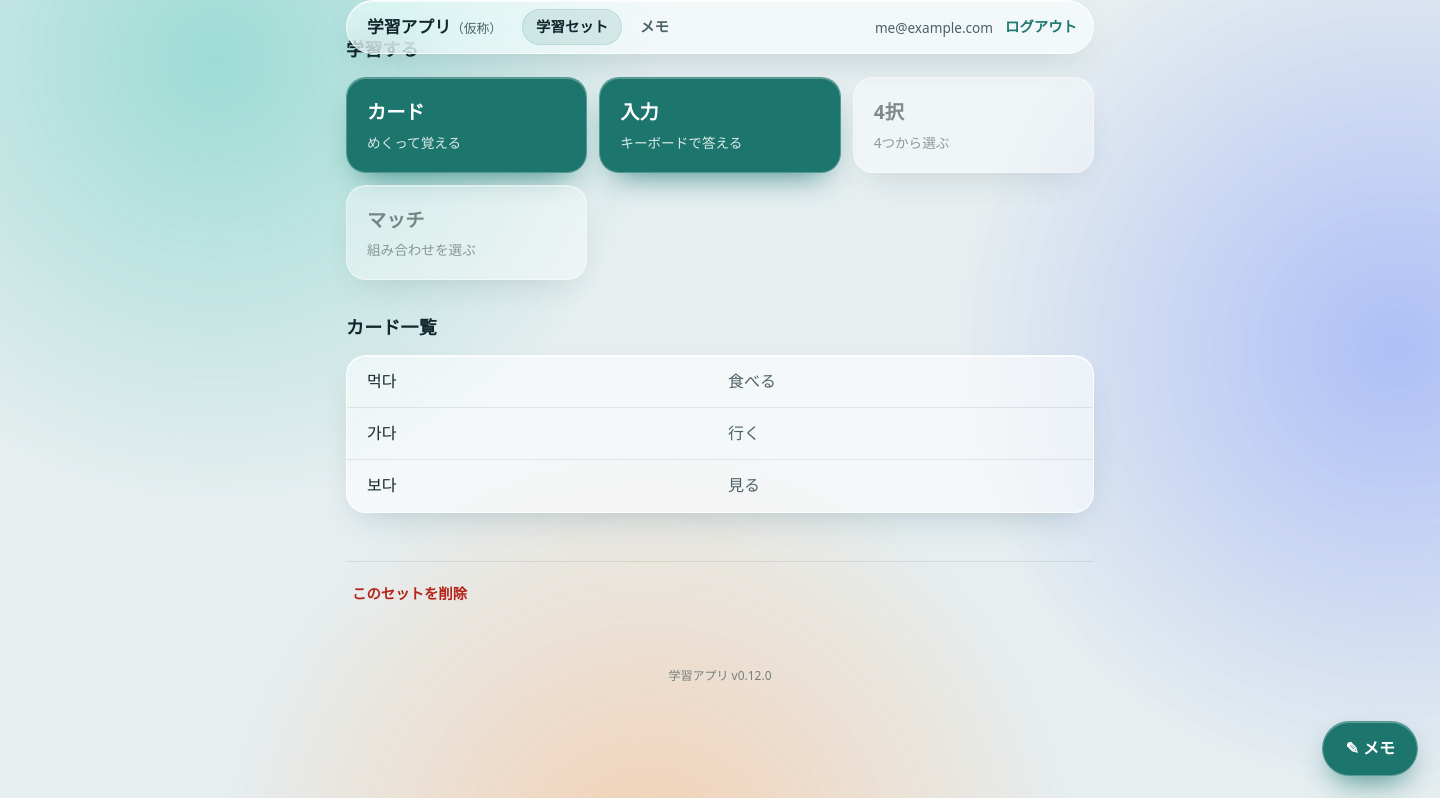
Test: 学習セットを削除する › 確認のあと削除すると一覧に戻り、セットは消えている
(page scrolled)
Step 1. Click the button "このセットを削除" → (410, 594), box [346, 578, 473, 610]
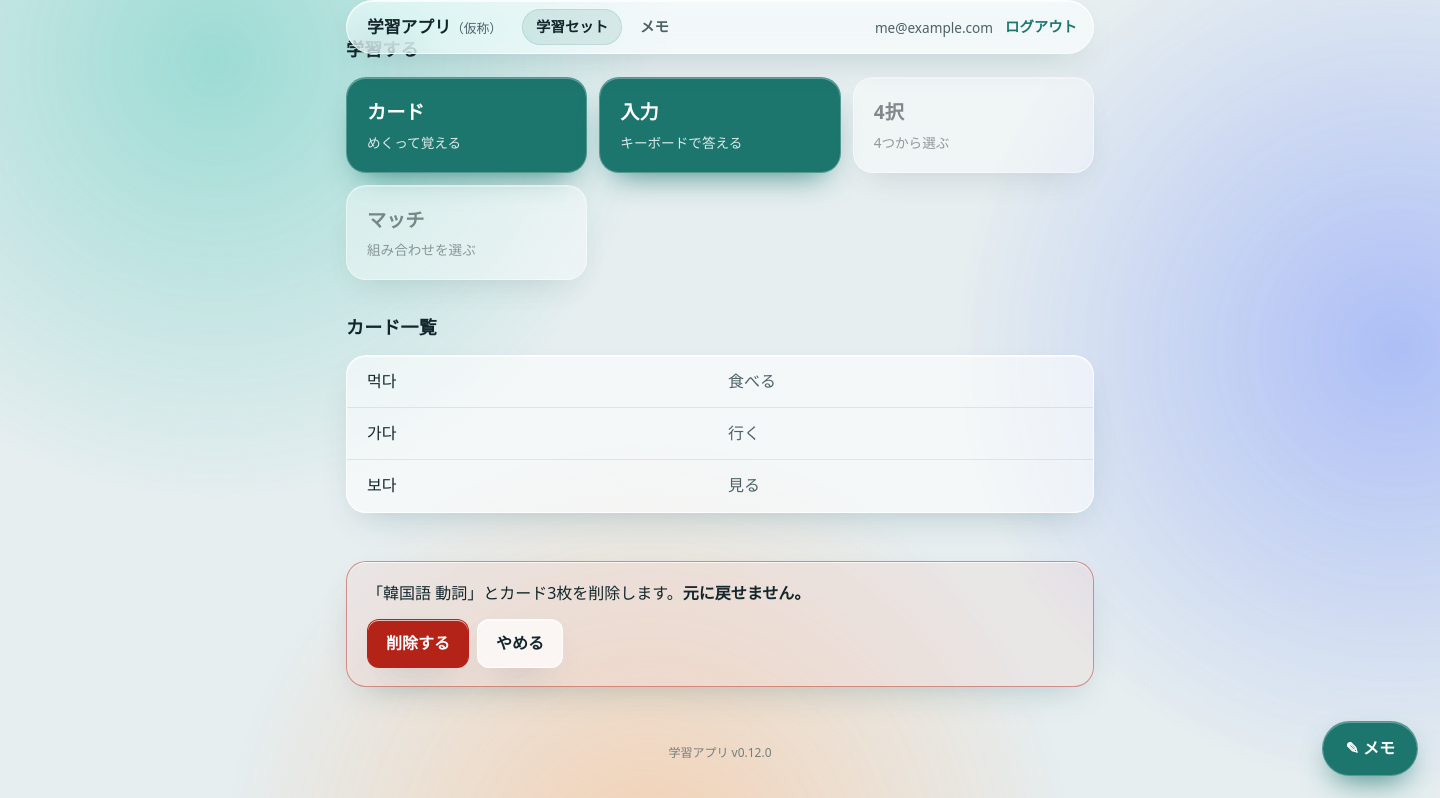
Check: the element named "削除の確認" shows "カード3枚を削除します", box [346, 560, 1094, 687]
Step 2. Click the button "削除する" → (418, 643), box [367, 619, 469, 668]
(page scrolled)
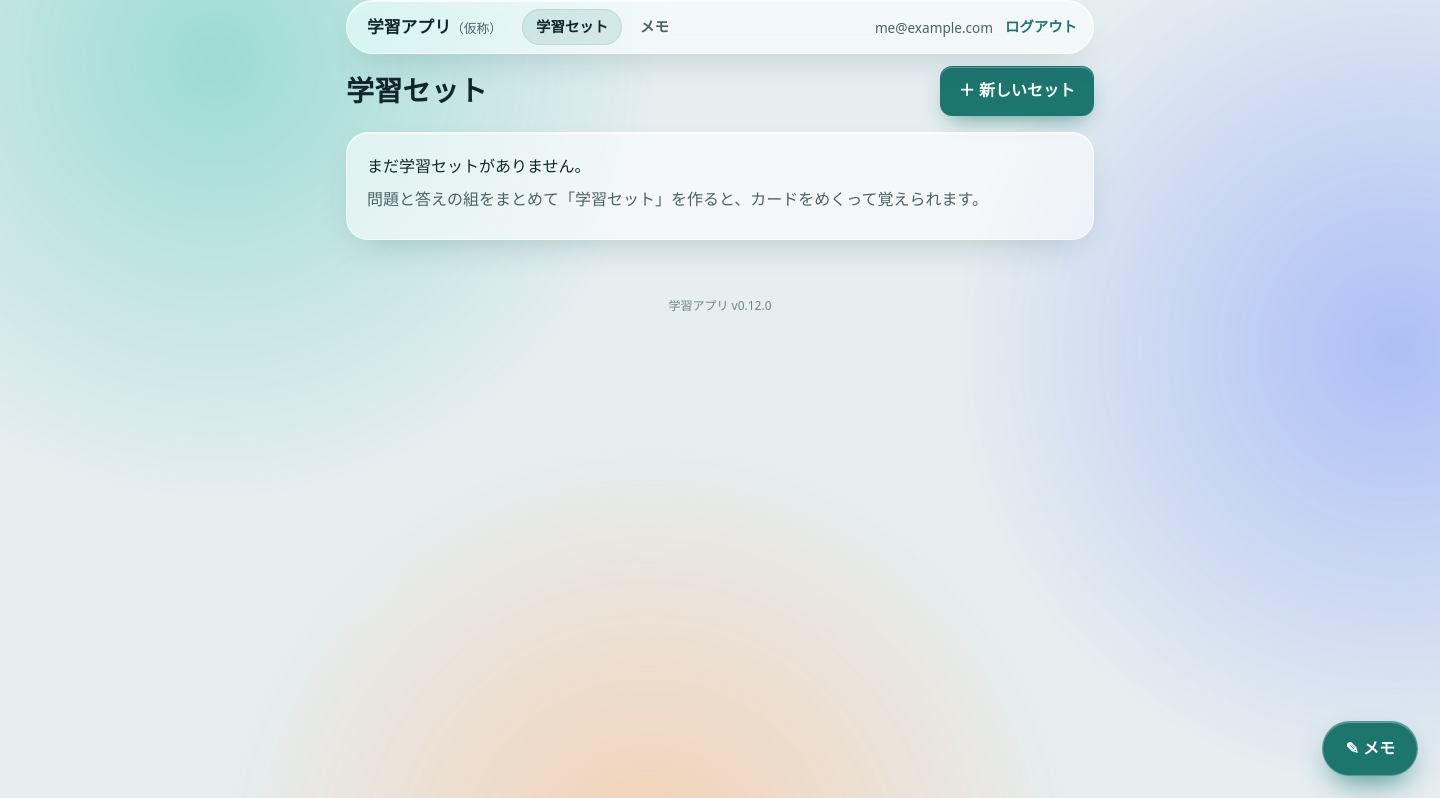
Check: the text "まだ学習セットがありません。" is shown, box [367, 155, 590, 177]
